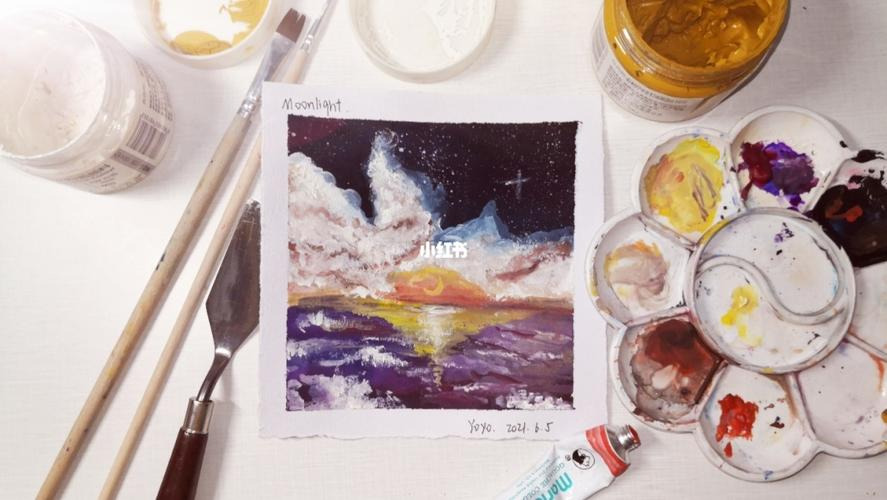food: (2, 12, 164, 182), (625, 128, 761, 243), (730, 100, 858, 214)
